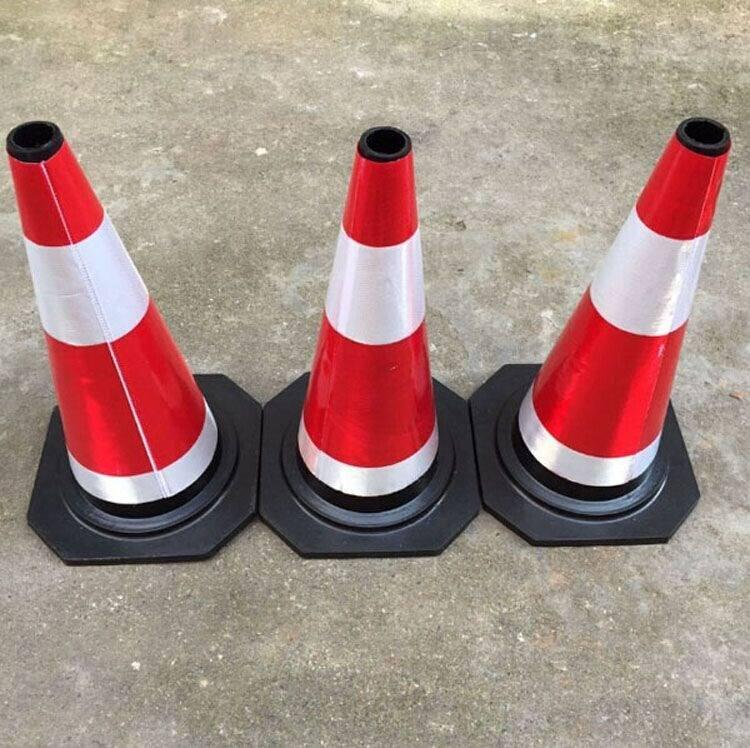sign: (486, 95, 747, 558), (1, 117, 259, 582), (262, 114, 485, 576)
